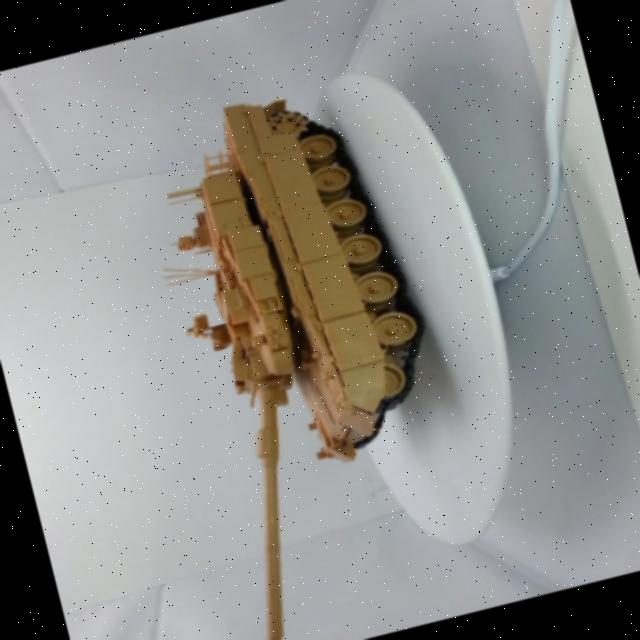korea tank: (109, 38, 503, 640)
